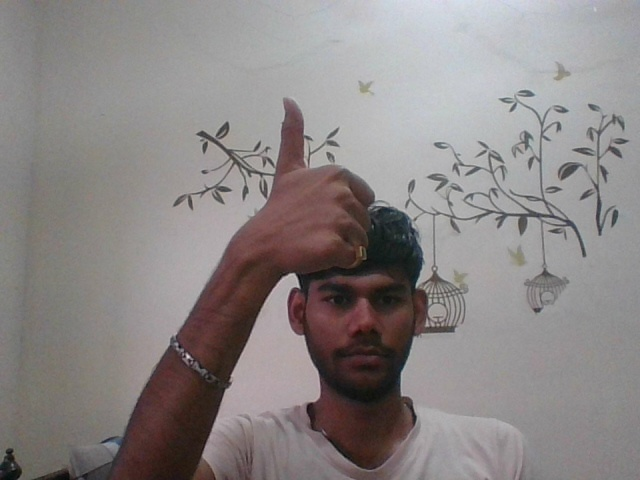Yes: (235, 86, 389, 305)
